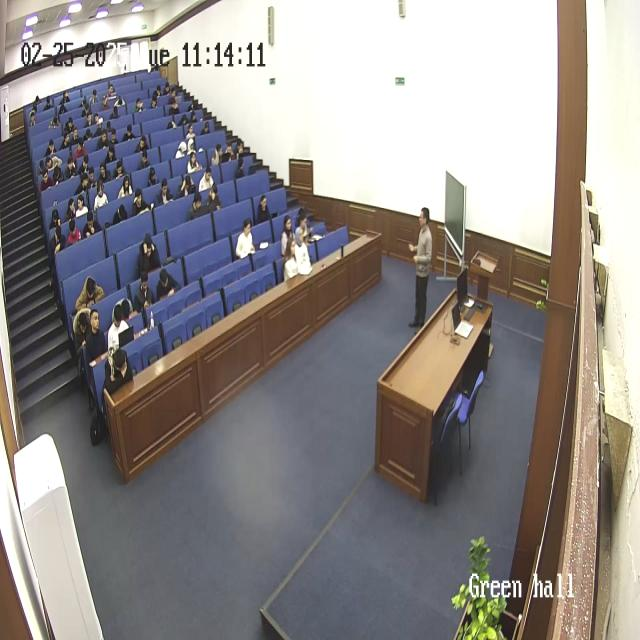person: (407, 206, 433, 331), (103, 348, 134, 398), (84, 309, 108, 368), (75, 276, 105, 320), (73, 303, 95, 362), (133, 273, 156, 328), (108, 301, 132, 351), (293, 224, 313, 276), (138, 232, 160, 276), (283, 229, 301, 282), (235, 217, 256, 260), (156, 268, 180, 304), (48, 209, 66, 257), (279, 215, 295, 257), (82, 211, 102, 241), (64, 194, 82, 227), (131, 184, 149, 217), (65, 215, 83, 247), (187, 190, 205, 220), (204, 184, 222, 214), (155, 178, 173, 207), (116, 172, 134, 201), (94, 180, 110, 212), (255, 194, 272, 224), (80, 166, 96, 196), (198, 165, 214, 194), (98, 159, 114, 187), (41, 164, 57, 192), (144, 162, 161, 188), (179, 171, 195, 198), (140, 145, 156, 172), (220, 140, 236, 166), (174, 135, 190, 161), (187, 149, 202, 175), (135, 132, 150, 158), (114, 159, 130, 182), (110, 200, 126, 222), (66, 158, 80, 182), (131, 94, 146, 116), (71, 141, 88, 159), (212, 143, 225, 166), (60, 129, 75, 147), (236, 153, 245, 181), (108, 125, 119, 147), (102, 82, 114, 102), (300, 209, 310, 233), (96, 131, 109, 149), (148, 91, 160, 110), (235, 136, 245, 158), (88, 87, 99, 106), (44, 138, 56, 155), (112, 100, 122, 120), (48, 110, 59, 128), (203, 118, 214, 136), (154, 85, 164, 104), (93, 108, 104, 125), (115, 92, 126, 109), (167, 113, 178, 130), (122, 124, 137, 136), (70, 127, 79, 147), (92, 118, 102, 136), (43, 97, 54, 113), (62, 90, 72, 106), (179, 112, 190, 126), (80, 129, 91, 143), (28, 115, 38, 130), (58, 101, 68, 115), (187, 98, 196, 113), (63, 118, 74, 130), (164, 80, 172, 96), (186, 124, 194, 138), (189, 109, 197, 122), (85, 113, 92, 126), (80, 96, 88, 106)
